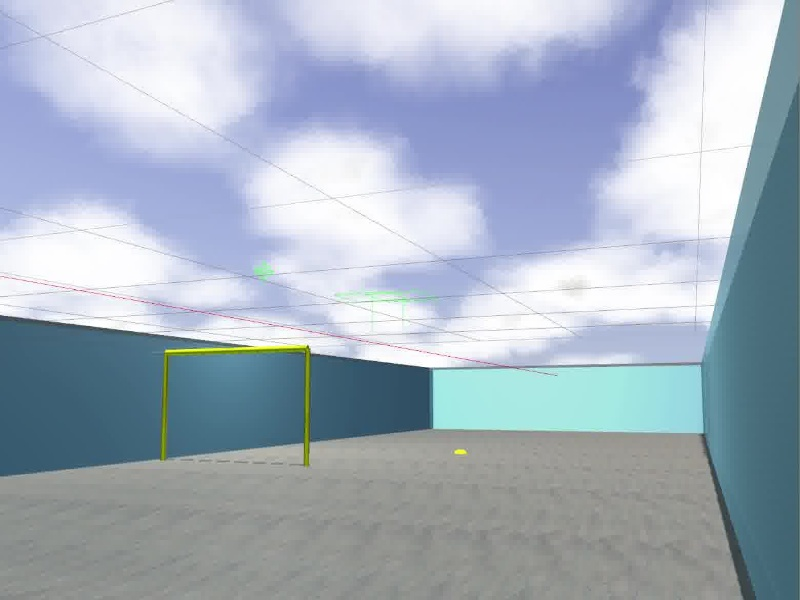gate: (158, 348, 310, 464)
